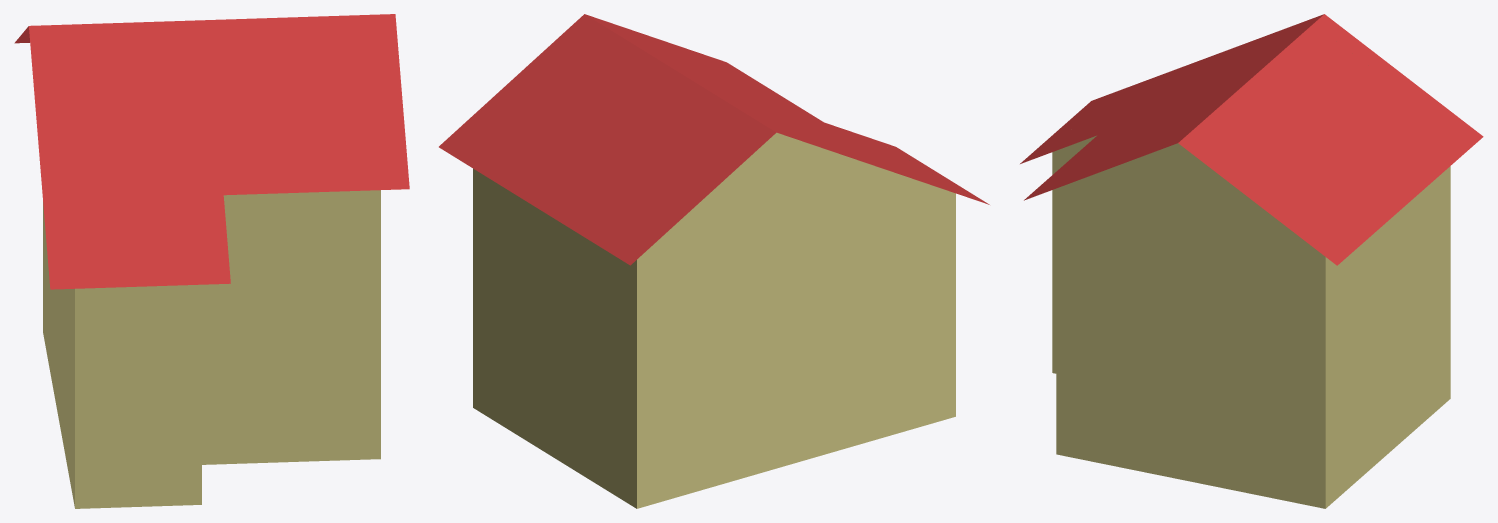
3 views of the same model, side by side, from view 1: azimuth 30°, elevation 25°; view 2: azimuth 150°, elevation 25°; view 3: azimuth 270°, elevation 25° (orthographic). The views are drawn at different scales.
Visible parts, largest first — view 1: group_5, group_3, group_4; view 2: group_5, group_3, group_4; view 3: group_5, group_3, group_4.
Part boxes in pixels (<box>): group_5: <box>43,190,380,508</box>; group_3: <box>14,14,409,289</box>; group_4: <box>29,27,230,289</box>; group_5: <box>473,132,955,508</box>; group_3: <box>439,14,955,264</box>; group_4: <box>439,14,989,265</box>; group_5: <box>1052,135,1450,508</box>; group_3: <box>1024,14,1454,265</box>; group_4: <box>1020,14,1483,263</box>.
Size of the model in its own units: 14.94 by 14.06 by 11.61.
